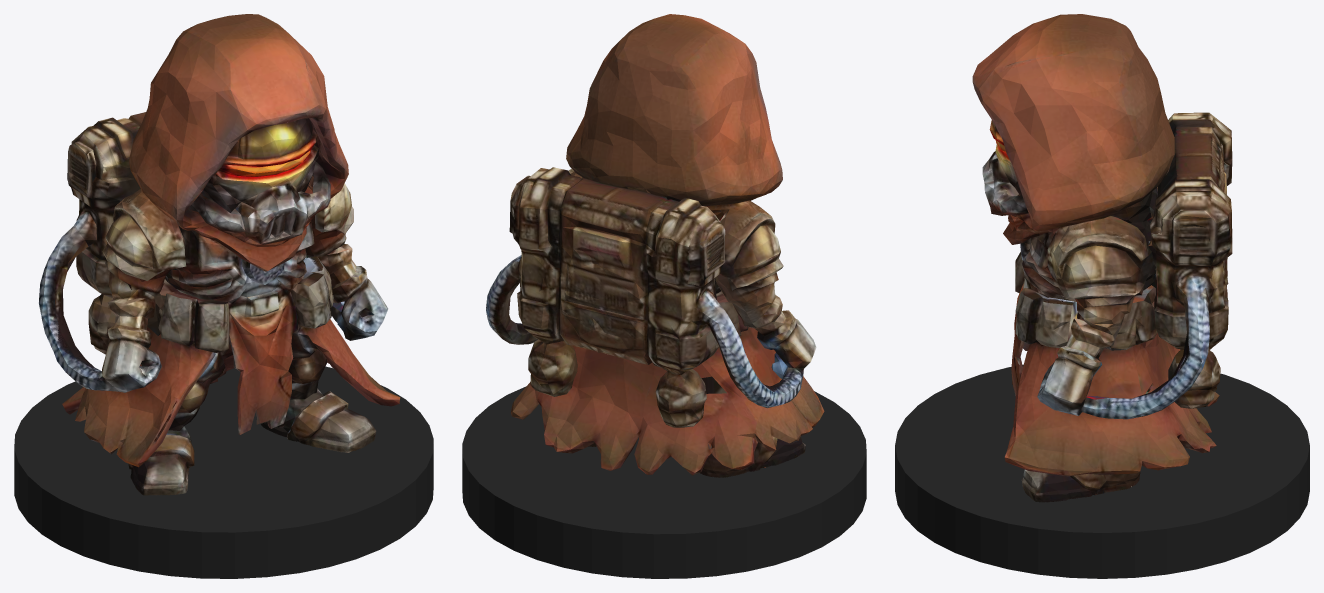
Rendered from hc-skitarii-ranger-gunner.glb.
The picture shows the model from 3 angles, left to right: view 1: azimuth 30°, elevation 25°; view 2: azimuth 150°, elevation 25°; view 3: azimuth 270°, elevation 25°; orthographic projection. The views are drawn at different scales.
Visible parts, largest first — view 1: figure, base; view 2: figure, base; view 3: figure, base.
Boxes of the visible parts, x1,y1,x2,y2 form: figure: (39, 14, 400, 495); base: (14, 366, 433, 578); figure: (486, 14, 824, 477); base: (462, 386, 866, 578); figure: (972, 14, 1232, 502); base: (895, 364, 1309, 578).
Size of the model in its own units: 0.9843 by 1.22 by 0.9843.
Materials: 2 (1 with a texture image).
